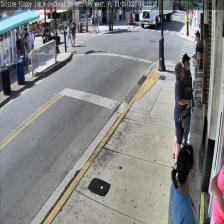person: (168, 144, 198, 223), (172, 62, 189, 169), (178, 52, 194, 146)
